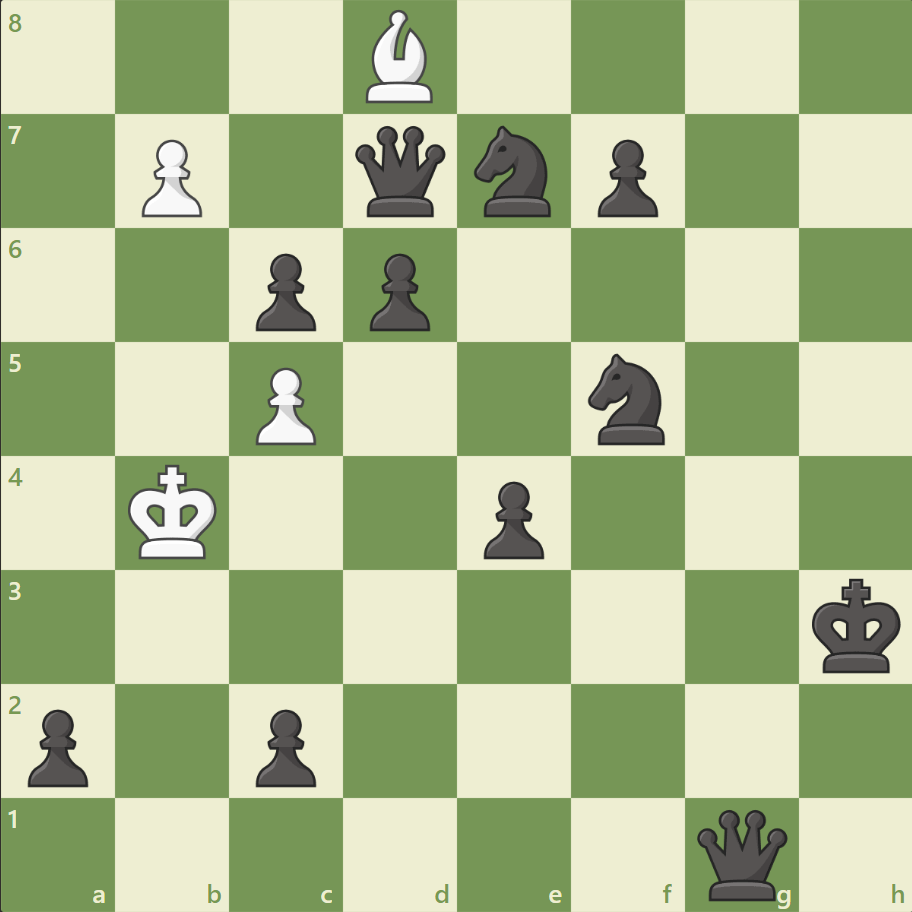B: (358, 6, 442, 109)
K: (124, 458, 224, 566)
P: (133, 132, 208, 223), (247, 359, 322, 450)
k: (806, 571, 906, 679)
n: (465, 121, 562, 223), (579, 348, 676, 450)
p: (247, 246, 322, 337), (474, 473, 549, 564), (20, 700, 95, 791), (247, 700, 322, 791), (588, 132, 662, 223), (361, 246, 435, 337)
q: (351, 122, 450, 222), (691, 804, 790, 903)
